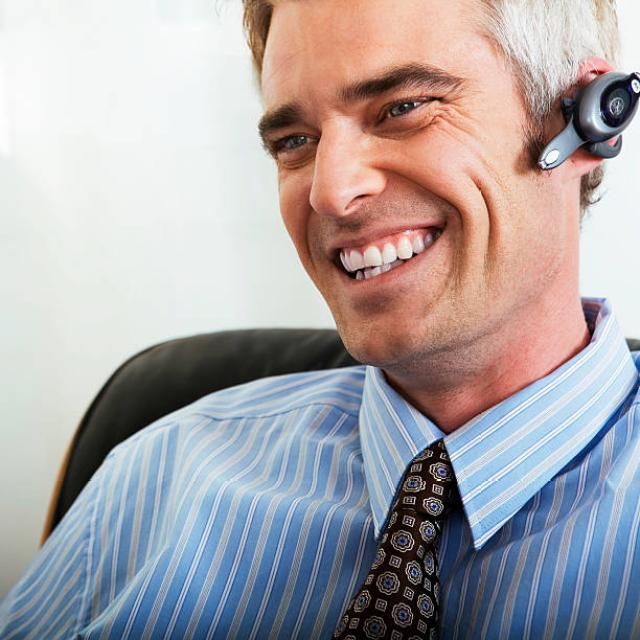airpods: (533, 67, 640, 172)
